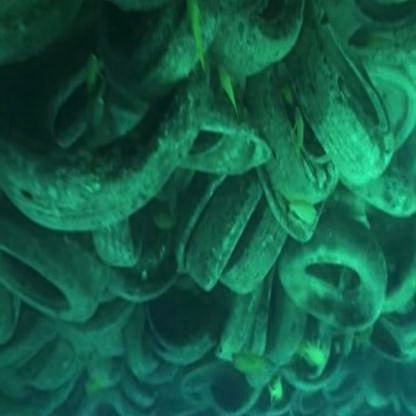tire: (16, 55, 169, 223), (2, 214, 122, 350), (258, 44, 372, 180), (196, 169, 283, 314), (296, 217, 396, 340), (157, 1, 304, 70), (107, 154, 196, 250)
